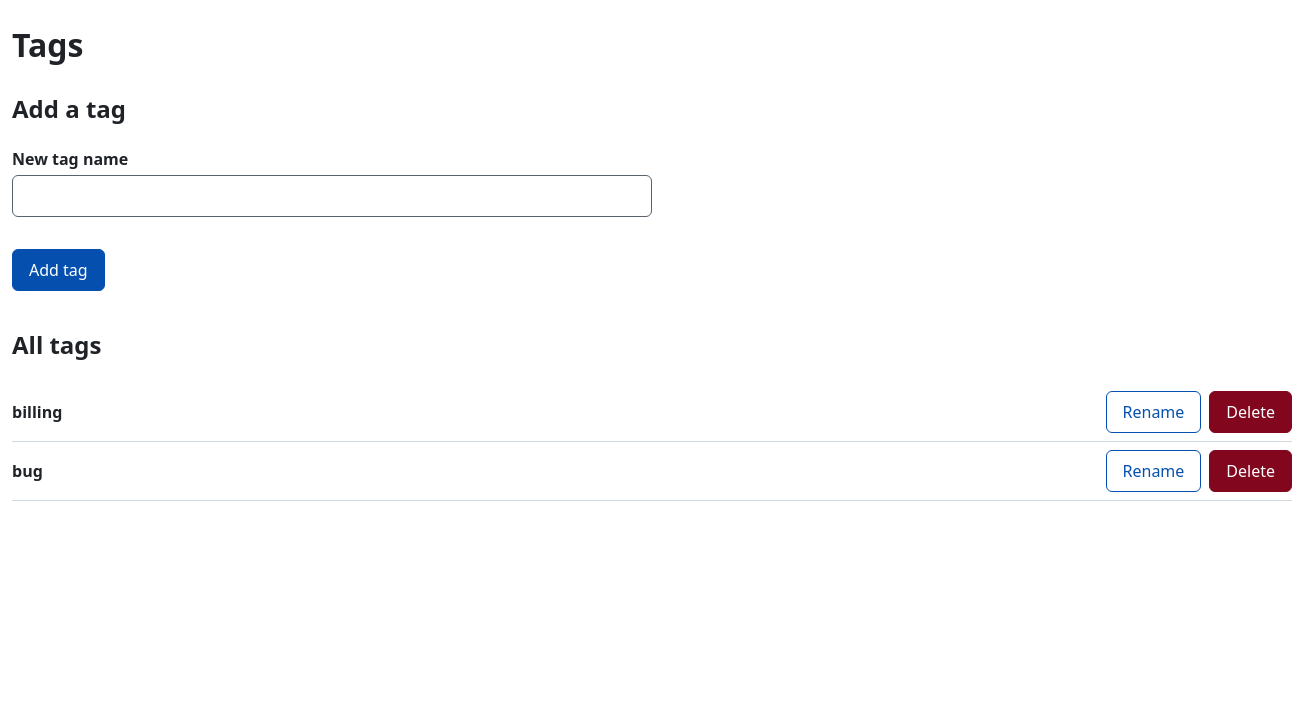
Test case: TagsPage › puts the tag back as it was when renaming is cancelled
Check: the text "billing" is shown, box x1=12 y1=401 x2=62 y2=423
Click the button with aria-label "Rename billing": (1153, 412) x1=1106 y1=391 x2=1201 y2=433
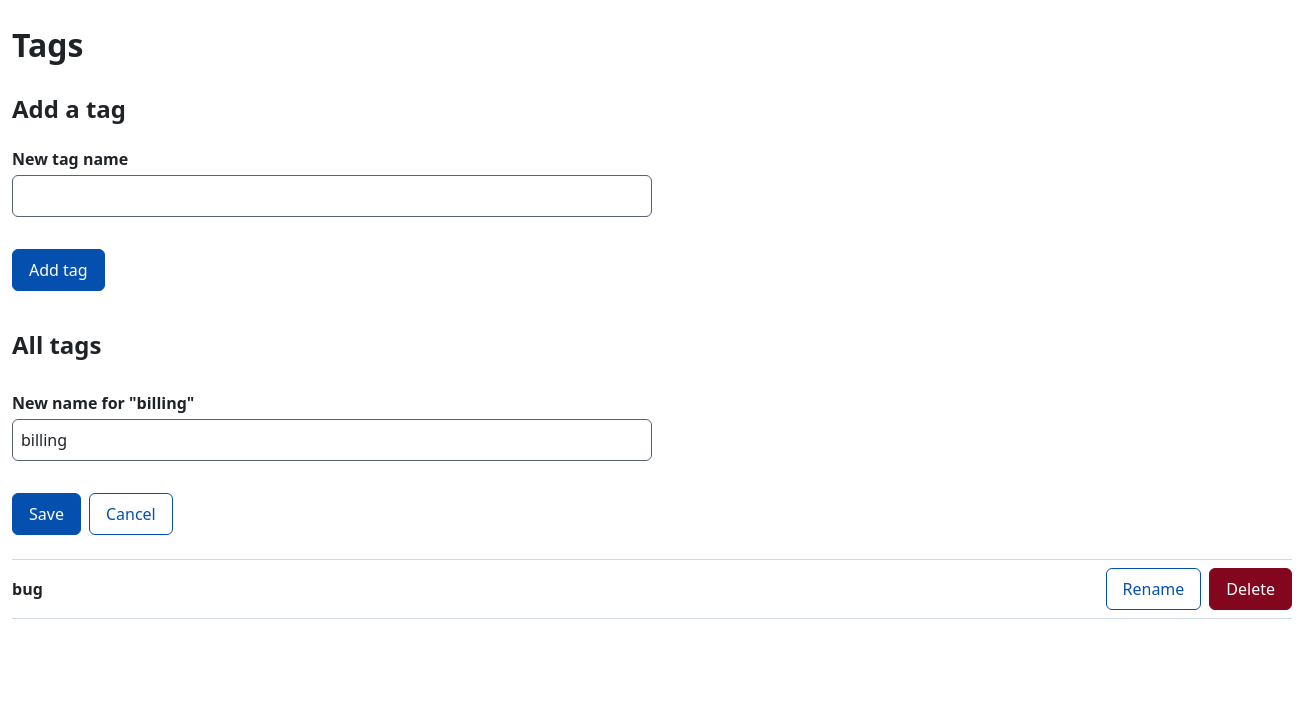
Click the button "Cancel": (131, 514) x1=89 y1=493 x2=173 y2=535
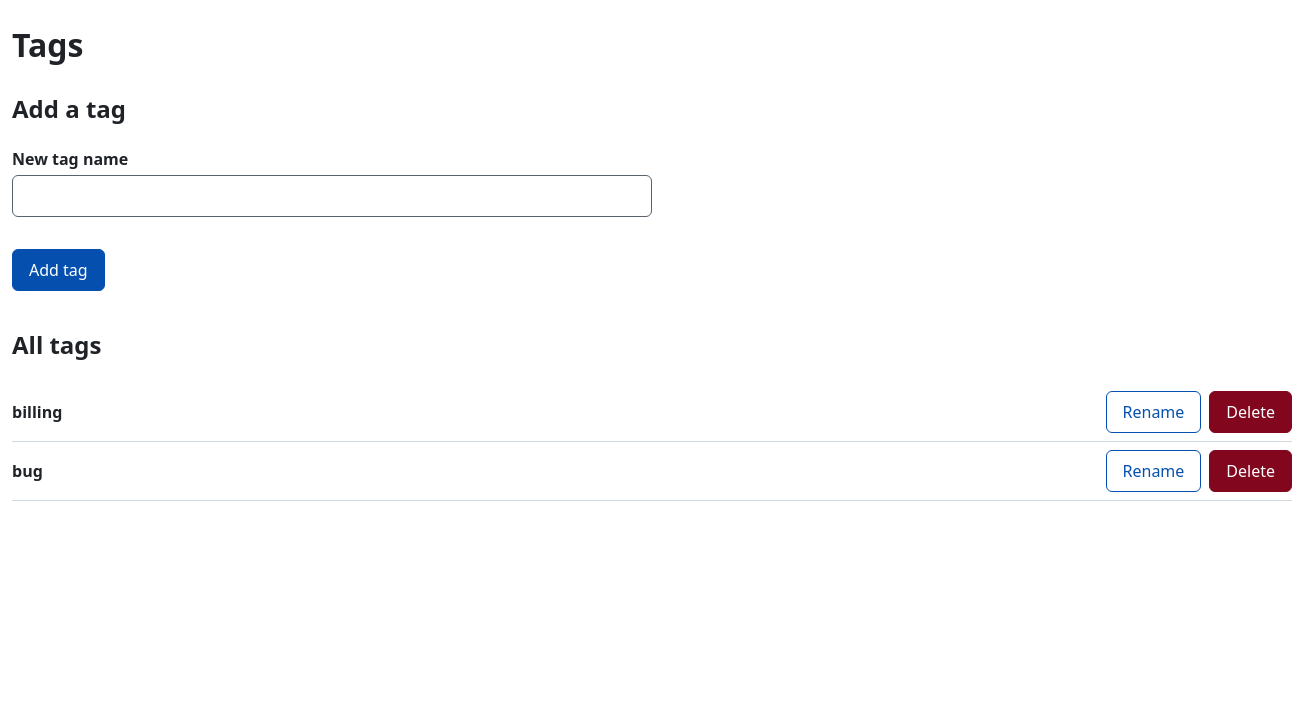
Check: the button with aria-label "Rename billing" is shown, box x1=1106 y1=391 x2=1201 y2=433
